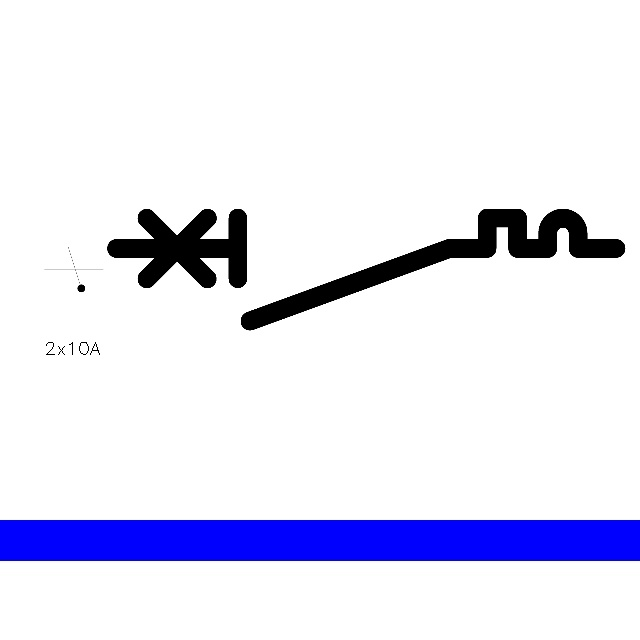interruptor_termomagnetico: (103, 205, 629, 333)
